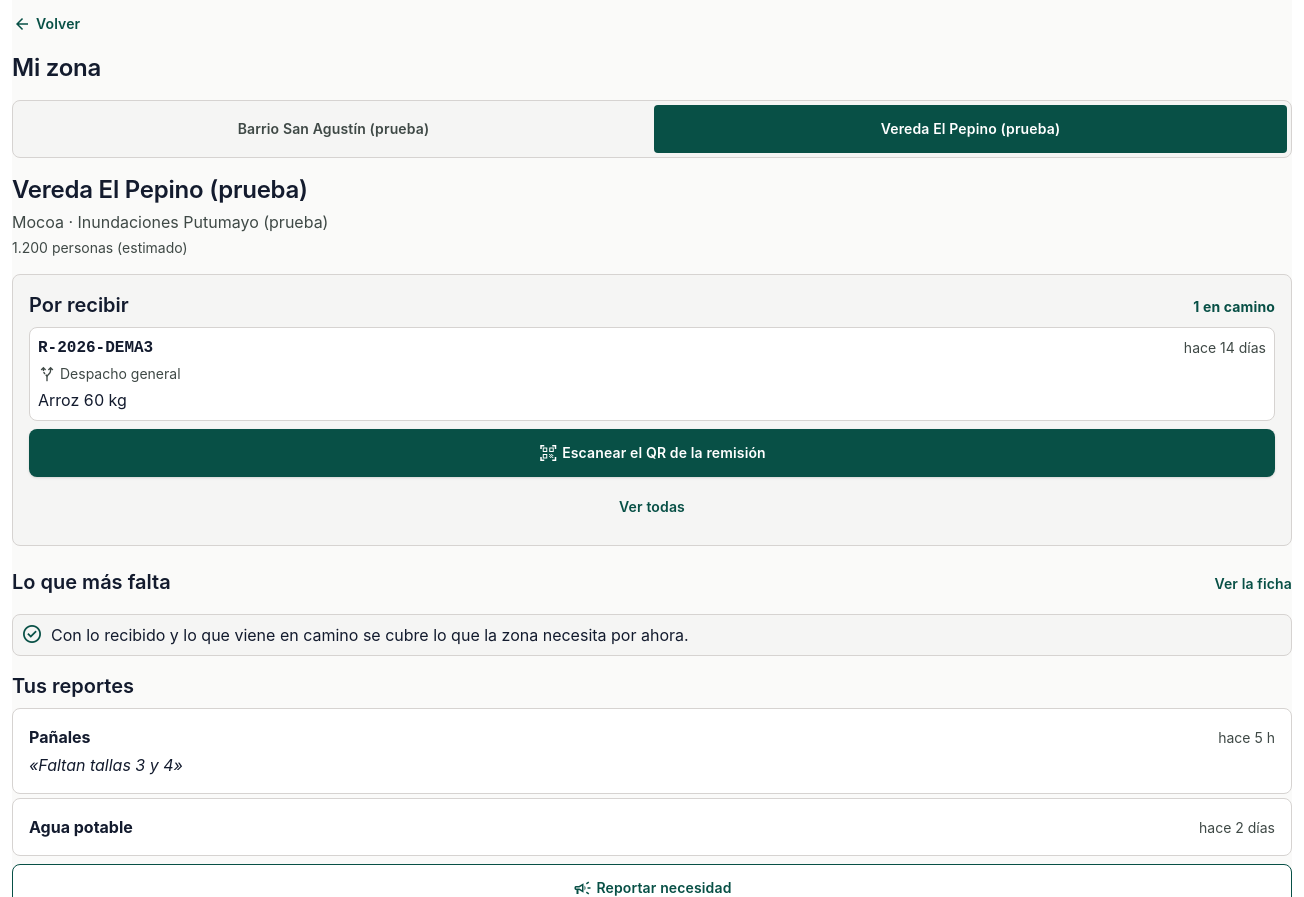
con dos zonas elige la de la dirección y cambia con el selector
Expected: the radio button labelled "Vereda El Pepino (prueba)" is checked, [881,120,1060,137]
Expected: the text "1 en camino" is shown, [1193,297,1275,317]
Step 1. Click the radio button labelled "Barrio San Agustín (prueba)" → (333, 128), box [238,120,429,137]
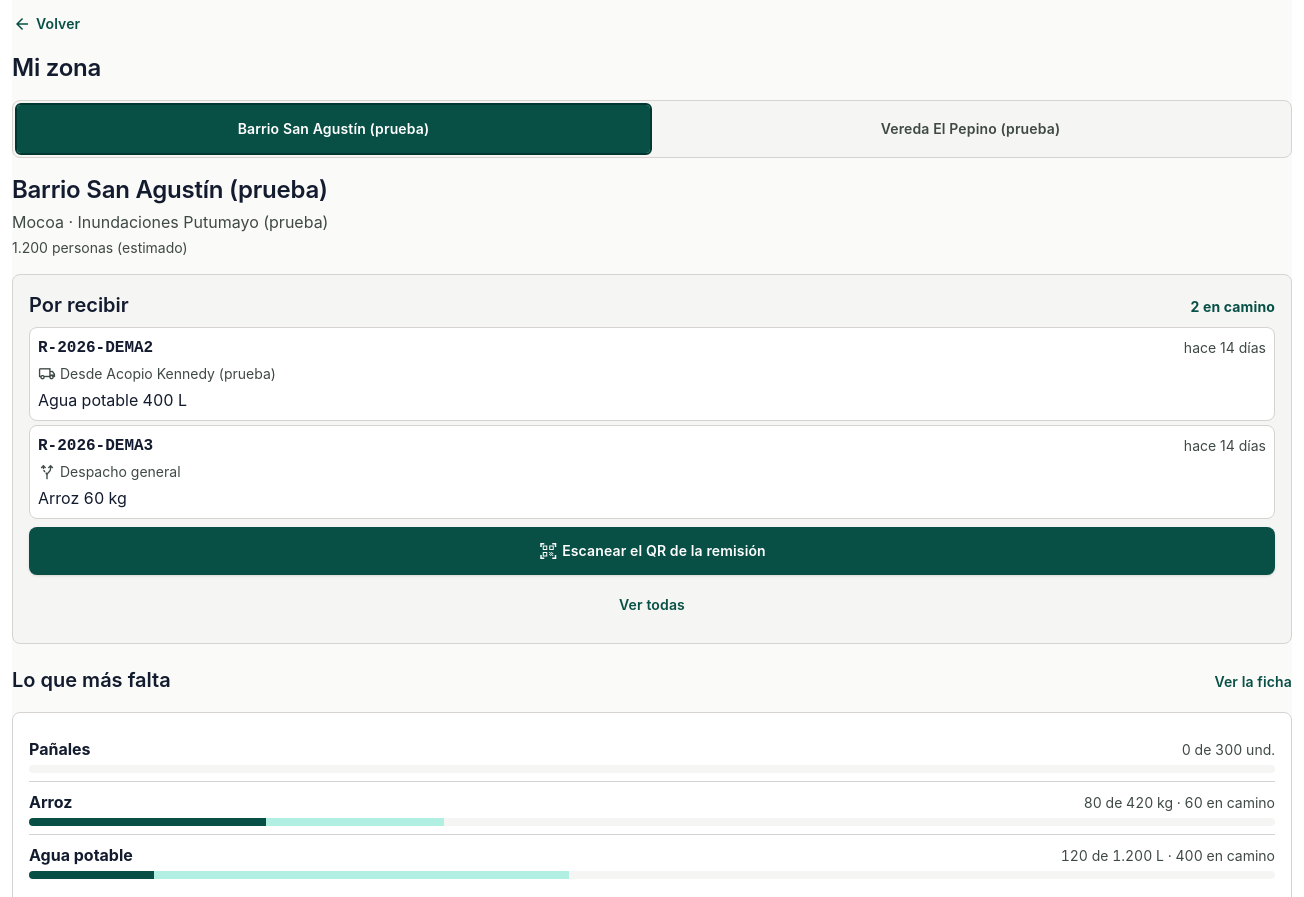
Expected: the heading "Barrio San Agustín (prueba)" is shown, [12,175,328,204]
